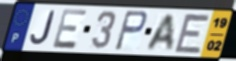3: (90, 9, 118, 51)
A: (144, 13, 176, 52)
E: (172, 12, 212, 55), (51, 8, 90, 50)
J: (28, 10, 57, 47)
P: (113, 9, 149, 52)
